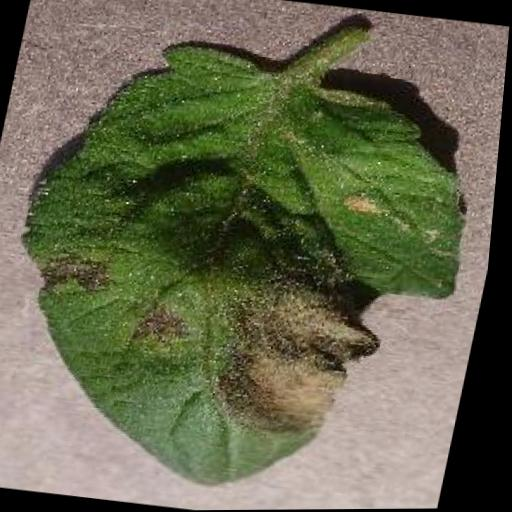Late Blight: (0, 24, 505, 512)
